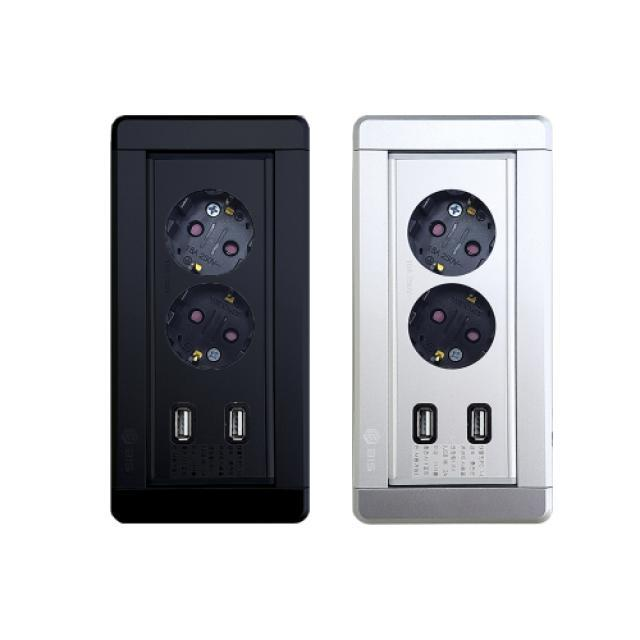typeb: (71, 87, 578, 555)
